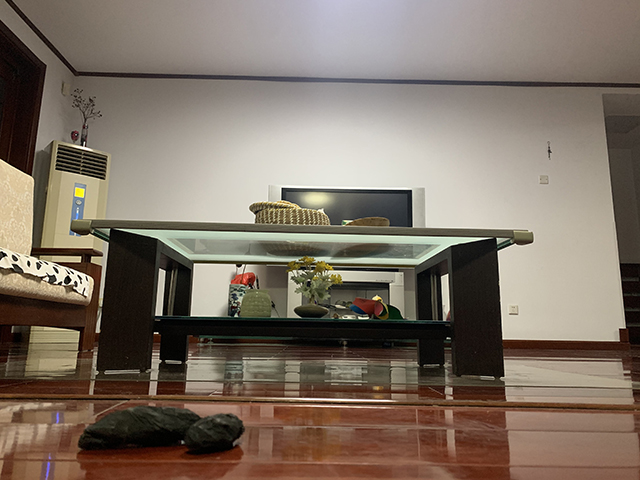feces: (76, 405, 246, 456)
sofa: (1, 159, 105, 354)
table: (70, 218, 536, 382)
